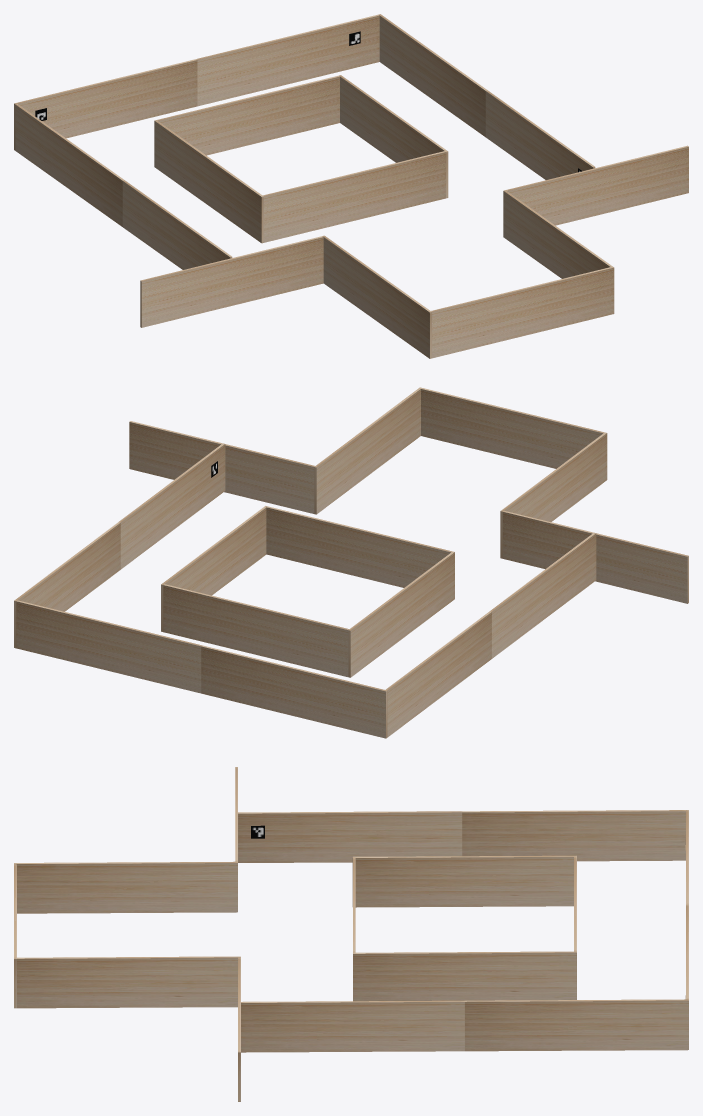
Rendered from laberinto_01.dae.
3 views of the same model, one above another, from view 1: azimuth 30°, elevation 25°; view 2: azimuth 150°, elevation 25°; view 3: azimuth 270°, elevation 25° (orthographic). The views are drawn at different scales.
Visible parts, largest first — view 1: afebe06f-d0a1-4ed5-b529-94e2ee841f18, ac1965da-d222-4350-ba5c-38104944d324, ae35a611-93cb-429e-a721-7cec3c039440, a260d355-a7c4-4d5f-9a34-419ee6f9c94c, addee77b-211b-47a3-8e17-5a8b1f2542da, a13942b7-bbf4-4cd5-b6a7-714e9fe663ac, e450face-2ee2-46f1-86eb-f7d3029cfcb2, a33d69af-5c57-4bbe-b643-dd67dd9fcd99, dd7158cc-a828-4e0f-a7b5-9cc8d8713057, bf3b6862-4c22-42b5-aef8-0c42e30539db, c8e127a1-9f47-40ee-9497-d669880ff01e, a8f43028-9c4c-4b83-9e8e-09da0ed249e1 (+3 smaller); view 2: b45b651a-85da-4171-b795-0e85578d2643, bccd9007-948c-478a-b0d3-e0e888a4084f, ae5d12a9-7f8c-4677-bb38-002ea461c02d, a47b86ae-ba86-4b08-8782-fb71018808d4, ab6de95c-7278-486f-8f1d-bc5b447dc2cf, a73a3548-3768-4450-9ba7-a8e1b54e9503, d4729a68-c5f2-41c8-aa48-3c9414195e86, a33d69af-5c57-4bbe-b643-dd67dd9fcd99, dd7158cc-a828-4e0f-a7b5-9cc8d8713057, b356c8b6-52aa-436a-b7fa-4366accba580, a8f43028-9c4c-4b83-9e8e-09da0ed249e1, a69197ad-d86b-420e-918f-1e114c28f5a6 (+3 smaller); view 3: aba05b26-09e5-40f5-a121-b28b3387e35d, a7a30a1f-7d6e-4c4d-ab79-1c1c0747895d, aaf5008f-9340-42dd-9220-6b5855040a32, ab6cf68f-0279-4e7a-a1f7-715eed6eca0f, b6e1aa09-57e2-43c3-b6b8-635426122b44, a3358900-db36-4c0b-a5b6-9973db0f4dc9, a6c108d8-00be-4d56-8d1a-018799a903fb, a1f40d88-5be0-4946-8240-633964499993.
Boxes of the visible parts, x1=… form: afebe06f-d0a1-4ed5-b529-94e2ee841f18: x1=141, y1=237, x2=323, y2=327; ac1965da-d222-4350-ba5c-38104944d324: x1=432, y1=267, x2=614, y2=358; ae35a611-93cb-429e-a721-7cec3c039440: x1=264, y1=152, x2=445, y2=242; a260d355-a7c4-4d5f-9a34-419ee6f9c94c: x1=197, y1=15, x2=379, y2=106; addee77b-211b-47a3-8e17-5a8b1f2542da: x1=507, y1=146, x2=688, y2=225; a13942b7-bbf4-4cd5-b6a7-714e9fe663ac: x1=158, y1=76, x2=339, y2=155; e450face-2ee2-46f1-86eb-f7d3029cfcb2: x1=18, y1=60, x2=197, y2=138; a33d69af-5c57-4bbe-b643-dd67dd9fcd99: x1=15, y1=104, x2=122, y2=226; dd7158cc-a828-4e0f-a7b5-9cc8d8713057: x1=154, y1=121, x2=261, y2=242; bf3b6862-4c22-42b5-aef8-0c42e30539db: x1=379, y1=15, x2=485, y2=136; c8e127a1-9f47-40ee-9497-d669880ff01e: x1=323, y1=237, x2=429, y2=358; a8f43028-9c4c-4b83-9e8e-09da0ed249e1: x1=122, y1=181, x2=230, y2=269; b45b651a-85da-4171-b795-0e85578d2643: x1=16, y1=601, x2=201, y2=693; bccd9007-948c-478a-b0d3-e0e888a4084f: x1=163, y1=585, x2=348, y2=676; ae5d12a9-7f8c-4677-bb38-002ea461c02d: x1=201, y1=646, x2=385, y2=738; a47b86ae-ba86-4b08-8782-fb71018808d4: x1=266, y1=507, x2=450, y2=587; ab6de95c-7278-486f-8f1d-bc5b447dc2cf: x1=502, y1=512, x2=687, y2=603; a73a3548-3768-4450-9ba7-a8e1b54e9503: x1=421, y1=389, x2=602, y2=468; d4729a68-c5f2-41c8-aa48-3c9414195e86: x1=129, y1=422, x2=314, y2=513; a33d69af-5c57-4bbe-b643-dd67dd9fcd99: x1=387, y1=612, x2=491, y2=737; dd7158cc-a828-4e0f-a7b5-9cc8d8713057: x1=350, y1=552, x2=454, y2=677; b356c8b6-52aa-436a-b7fa-4366accba580: x1=316, y1=389, x2=420, y2=513; a8f43028-9c4c-4b83-9e8e-09da0ed249e1: x1=492, y1=533, x2=596, y2=658; a69197ad-d86b-420e-918f-1e114c28f5a6: x1=120, y1=444, x2=225, y2=569; aba05b26-09e5-40f5-a121-b28b3387e35d: x1=465, y1=1000, x2=688, y2=1051; a7a30a1f-7d6e-4c4d-ab79-1c1c0747895d: x1=241, y1=1002, x2=464, y2=1052; aaf5008f-9340-42dd-9220-6b5855040a32: x1=17, y1=957, x2=237, y2=1008; ab6cf68f-0279-4e7a-a1f7-715eed6eca0f: x1=16, y1=863, x2=237, y2=913; b6e1aa09-57e2-43c3-b6b8-635426122b44: x1=355, y1=857, x2=573, y2=907; a3358900-db36-4c0b-a5b6-9973db0f4dc9: x1=353, y1=952, x2=576, y2=1001; a6c108d8-00be-4d56-8d1a-018799a903fb: x1=462, y1=811, x2=685, y2=861; a1f40d88-5be0-4946-8240-633964499993: x1=238, y1=812, x2=461, y2=862.
Bounding box in the file's own units: 2.41 × 2.41 × 0.2006.
Materials: 7 (7 with a texture image).
